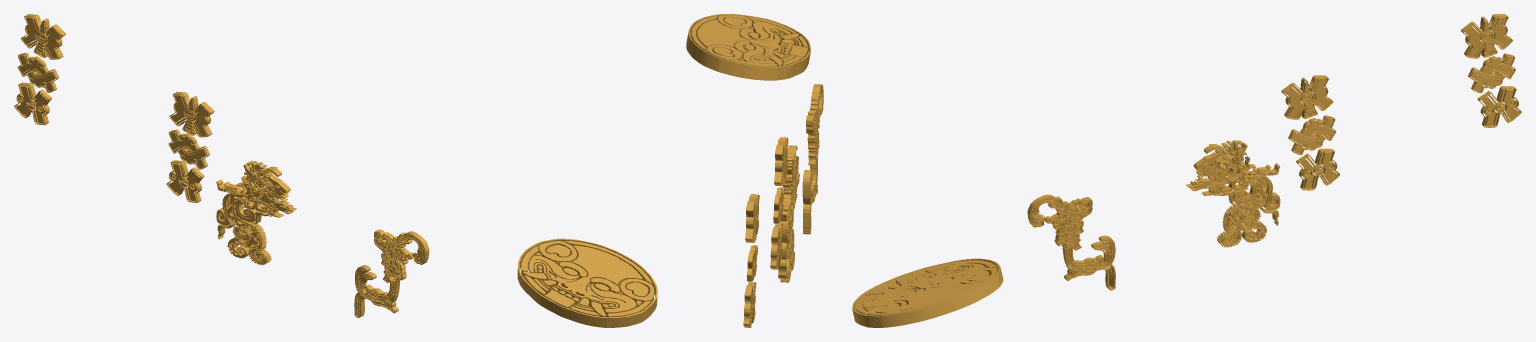
File: dmlartwall9.glb .glb
3 views of the same model, side by side, from view 1: azimuth 30°, elevation 25°; view 2: azimuth 150°, elevation 25°; view 3: azimuth 270°, elevation 25° (orthographic). The views are drawn at different scales.
Visible parts, largest first — view 1: Selection.012, Selection.007, Selection #2.003, Selection #1.006, Selection #1.003, Selection.011, Selection.022, Selection.008, Selection.021; view 2: Selection.012, Selection #2.003, Selection.007, Selection #1.003, Selection #1.006, Selection.011, Selection.022, Selection.021, Selection.008; view 3: Selection.012, Selection.007, Selection #2.003, Selection #1.003, Selection #1.006, Selection.022, Selection.011, Selection.021, Selection.008.
Boxes of the visible parts, left/top/right/bottom form: Selection.012: left=517, top=238, right=657, bottom=327; Selection.007: left=216, top=160, right=296, bottom=265; Selection #2.003: left=354, top=229, right=429, bottom=317; Selection #1.006: left=169, top=91, right=214, bottom=137; Selection #1.003: left=20, top=14, right=65, bottom=59; Selection.011: left=14, top=82, right=51, bottom=125; Selection.022: left=166, top=160, right=204, bottom=202; Selection.008: left=17, top=52, right=58, bottom=92; Selection.021: left=168, top=129, right=209, bottom=169; Selection.012: left=686, top=14, right=811, bottom=80; Selection #2.003: left=802, top=84, right=823, bottom=234; Selection.007: left=778, top=145, right=799, bottom=282; Selection #1.003: left=745, top=194, right=759, bottom=242; Selection #1.006: left=774, top=137, right=788, bottom=186; Selection.011: left=743, top=281, right=756, bottom=327; Selection.022: left=770, top=223, right=782, bottom=269; Selection.021: left=773, top=187, right=784, bottom=223; Selection.008: left=746, top=245, right=757, bottom=281; Selection.012: left=852, top=258, right=1003, bottom=327; Selection.007: left=1186, top=140, right=1280, bottom=247; Selection #2.003: left=1027, top=194, right=1115, bottom=290; Selection #1.003: left=1461, top=14, right=1512, bottom=58; Selection #1.006: left=1281, top=75, right=1333, bottom=119; Selection.022: left=1296, top=148, right=1340, bottom=190; Selection.011: left=1477, top=86, right=1521, bottom=127; Selection.021: left=1288, top=115, right=1336, bottom=155; Selection.008: left=1468, top=53, right=1515, bottom=93.
Bounding box in the file's own units: 1.23 × 0.6907 × 2.05.
